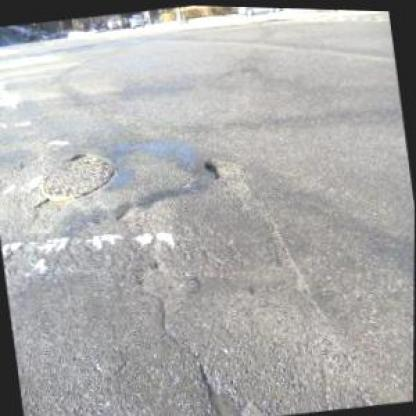pothole: (198, 358, 252, 414), (204, 151, 241, 182)
